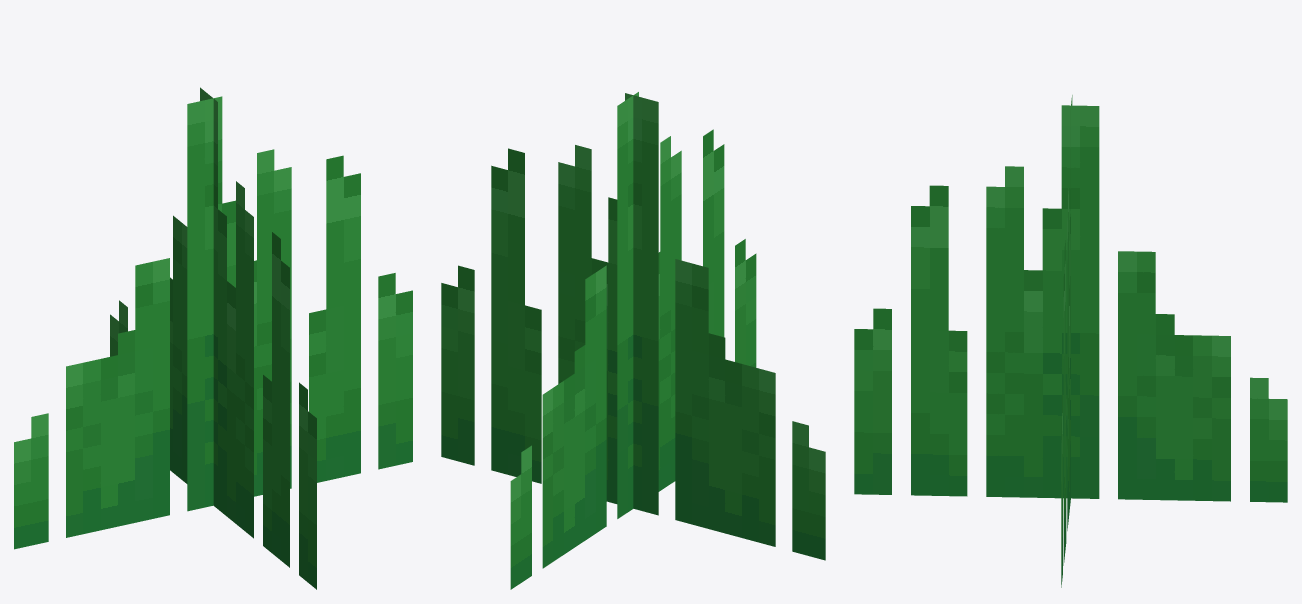
File: grass.fbx
3 views of the same model, side by side, from view 1: azimuth 30°, elevation 25°; view 2: azimuth 150°, elevation 25°; view 3: azimuth 270°, elevation 25° (orthographic). The views are drawn at different scales.
Parts seen in each view (by area): view 1: 平面.005; view 2: 平面.005; view 3: 平面.005.
Boxes of the visible parts, box(x1,y1,x2,y2) form: 平面.005: box(14, 87, 412, 589); 平面.005: box(441, 92, 825, 589); 平面.005: box(854, 95, 1287, 587).
Bounding box in the file's own units: 40.23 × 40.27 × 40.23.
